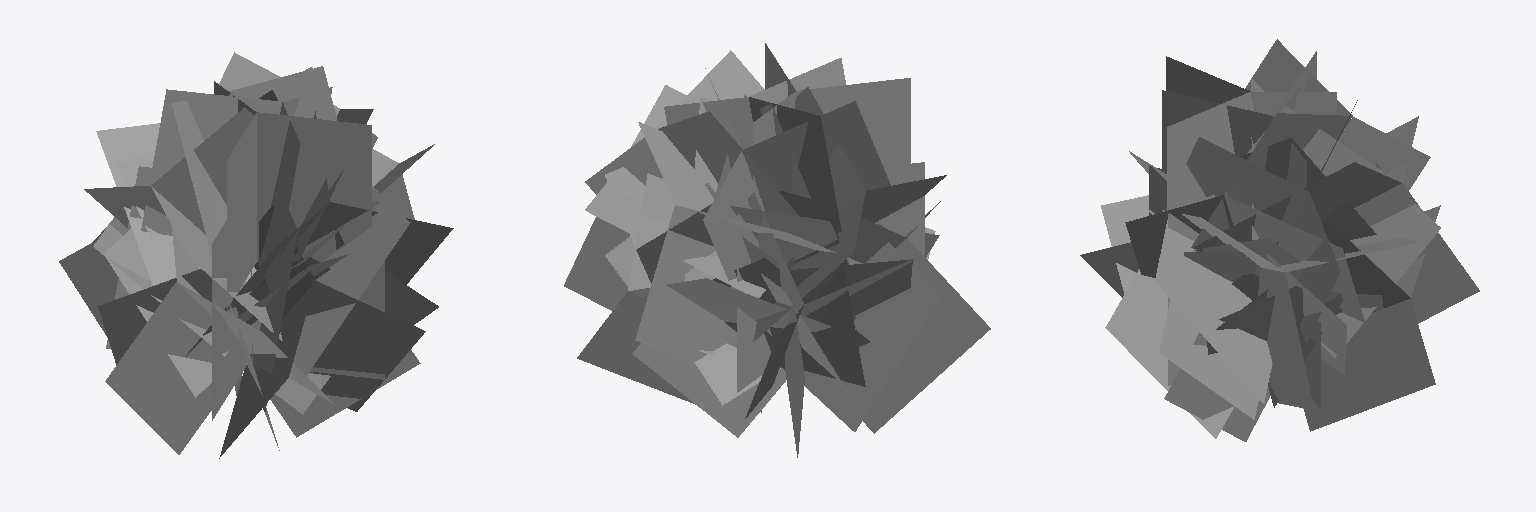
Rendered from Bush01_blend.obj.
3 renders of one model, left to right at view 1: azimuth 30°, elevation 25°; view 2: azimuth 150°, elevation 25°; view 3: azimuth 270°, elevation 25°, orthographic.
Visible parts, largest first — view 1: Brush128; view 2: Brush128; view 3: Brush128.
Part boxes in pixels (x1,y1,x2,y2): Brush128: (59,52,453,458); Brush128: (564,43,990,457); Brush128: (1080,39,1479,441).
Bounding box in the file's own units: 8.75 × 7.82 × 8.11.